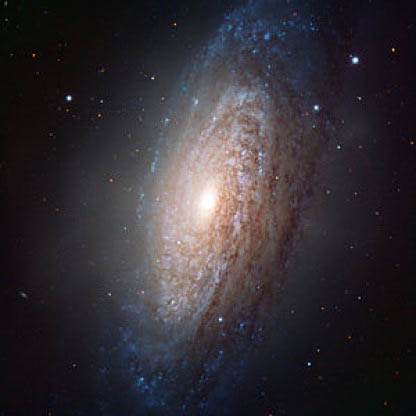NGC 3521: (53, 7, 363, 398)
